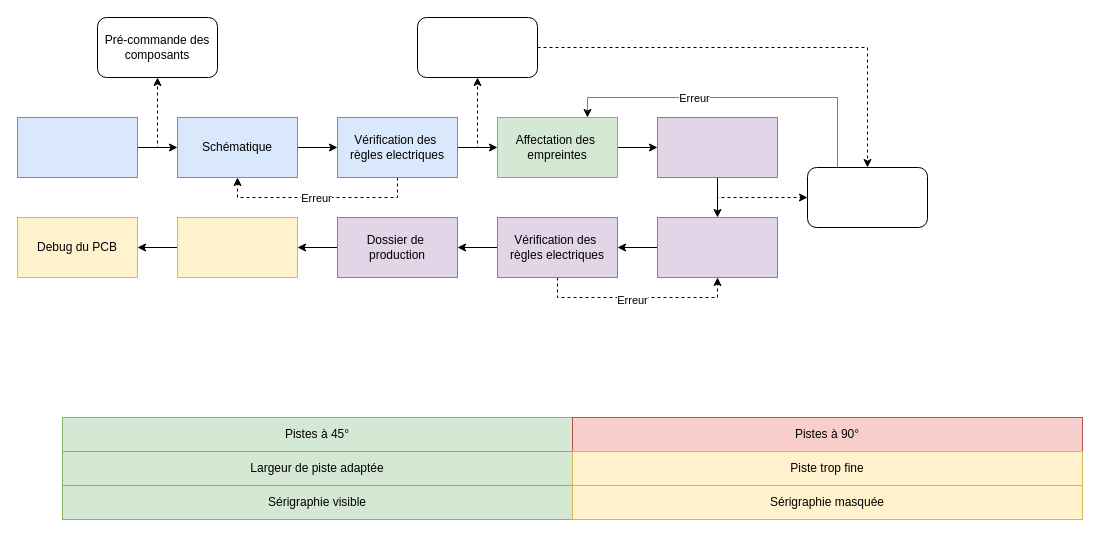
Image size: 1100x537. Some labels were removed from this diagram. Each missing label, with the centre of its shape:
"Commande des composants" belongs at point (477, 47).
"Comparaison des empreintes" belongs at point (867, 197).
"Conception" belongs at point (77, 147).
"Montage du PCB" belongs at point (237, 247).
"Placement des composants" belongs at point (717, 147).
"Routage" belongs at point (717, 247).
